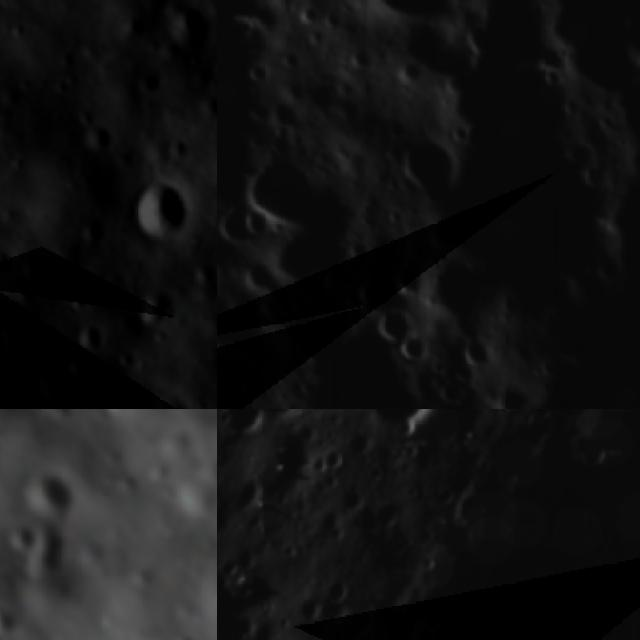crater: (349, 441, 640, 640), (241, 152, 338, 236), (120, 168, 206, 252), (386, 127, 468, 199), (342, 264, 429, 314), (342, 0, 471, 32), (23, 516, 77, 577), (578, 409, 640, 460), (18, 463, 68, 516), (366, 306, 426, 346), (357, 409, 437, 438), (217, 369, 272, 409), (168, 0, 211, 50), (230, 466, 270, 517), (217, 409, 263, 443), (393, 333, 438, 367), (116, 5, 155, 44), (0, 519, 39, 556), (311, 445, 343, 476), (0, 598, 24, 638), (322, 572, 353, 600), (100, 409, 137, 417)
